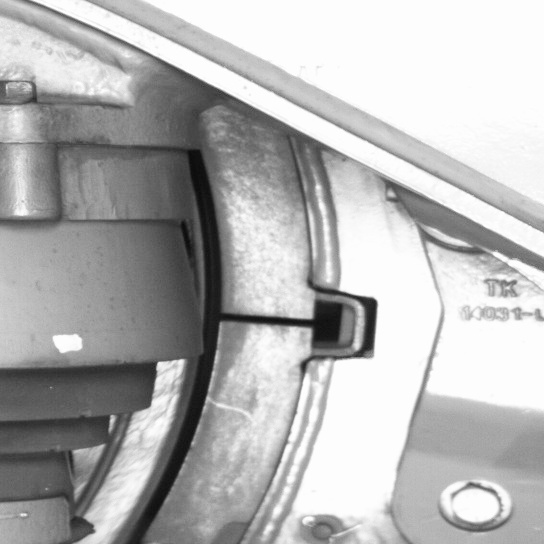KnifeSwitch: (108, 146, 324, 543)
